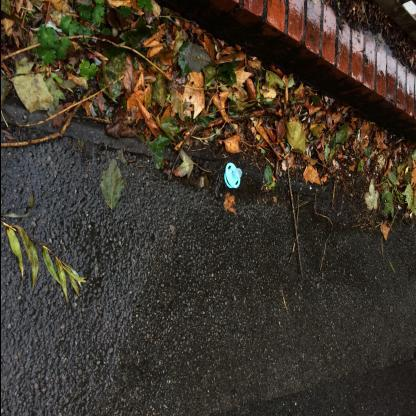plastik: (225, 163, 243, 190)
